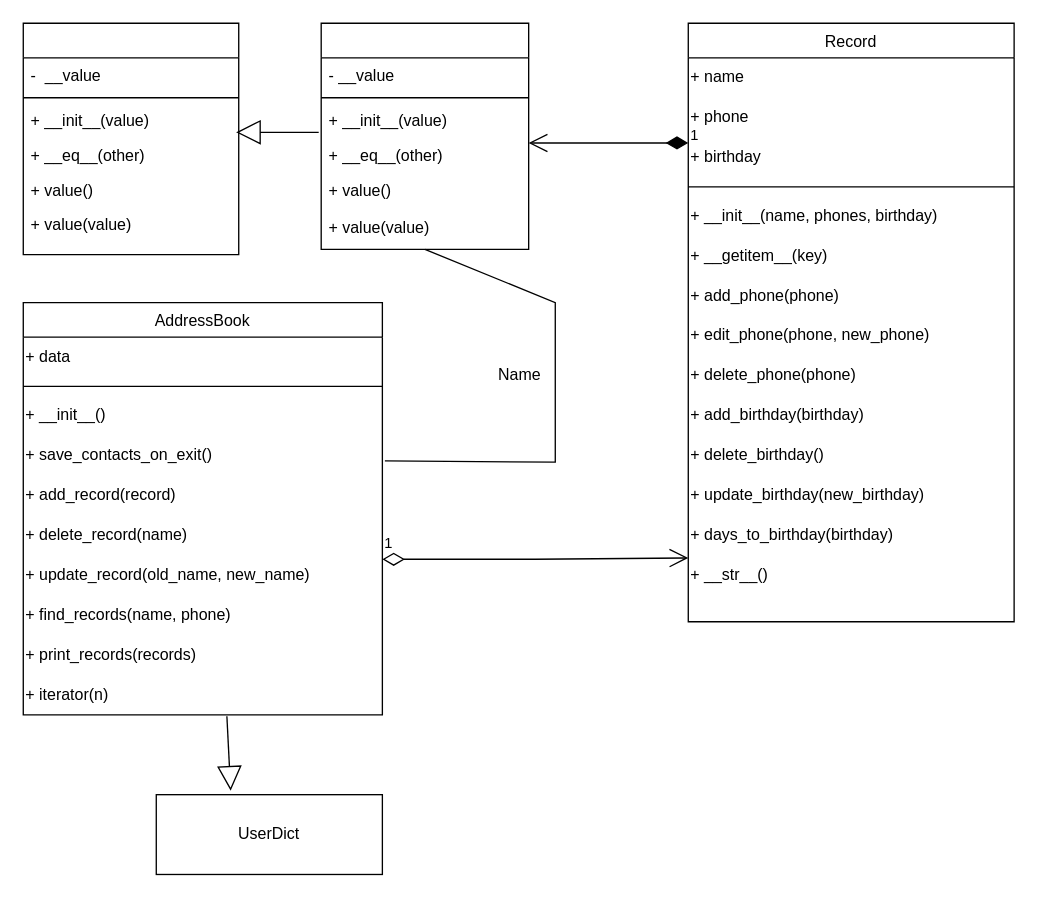
Image size: 1037x898. Some labels were removed from this diagram. Here are the shapes that lost their labels. From the top down, the box of each, then its label:
(22, 22, 239, 255): Field
(320, 22, 529, 249): Name/Phone/Birthday
